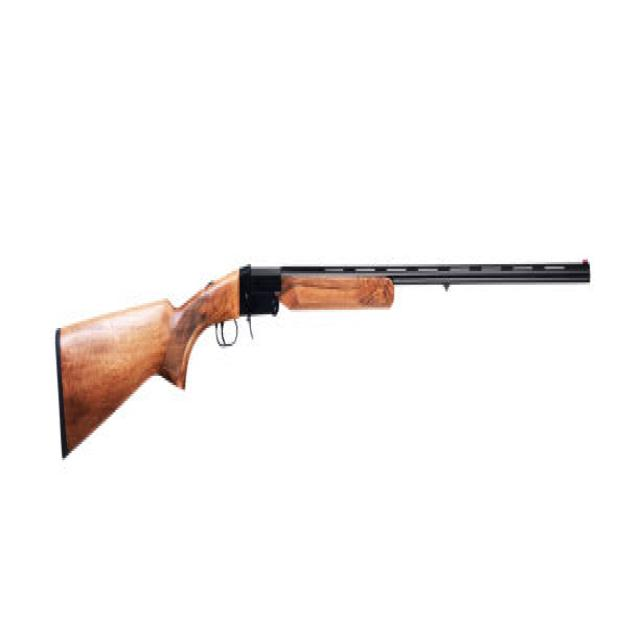rifle: (50, 248, 596, 470)
